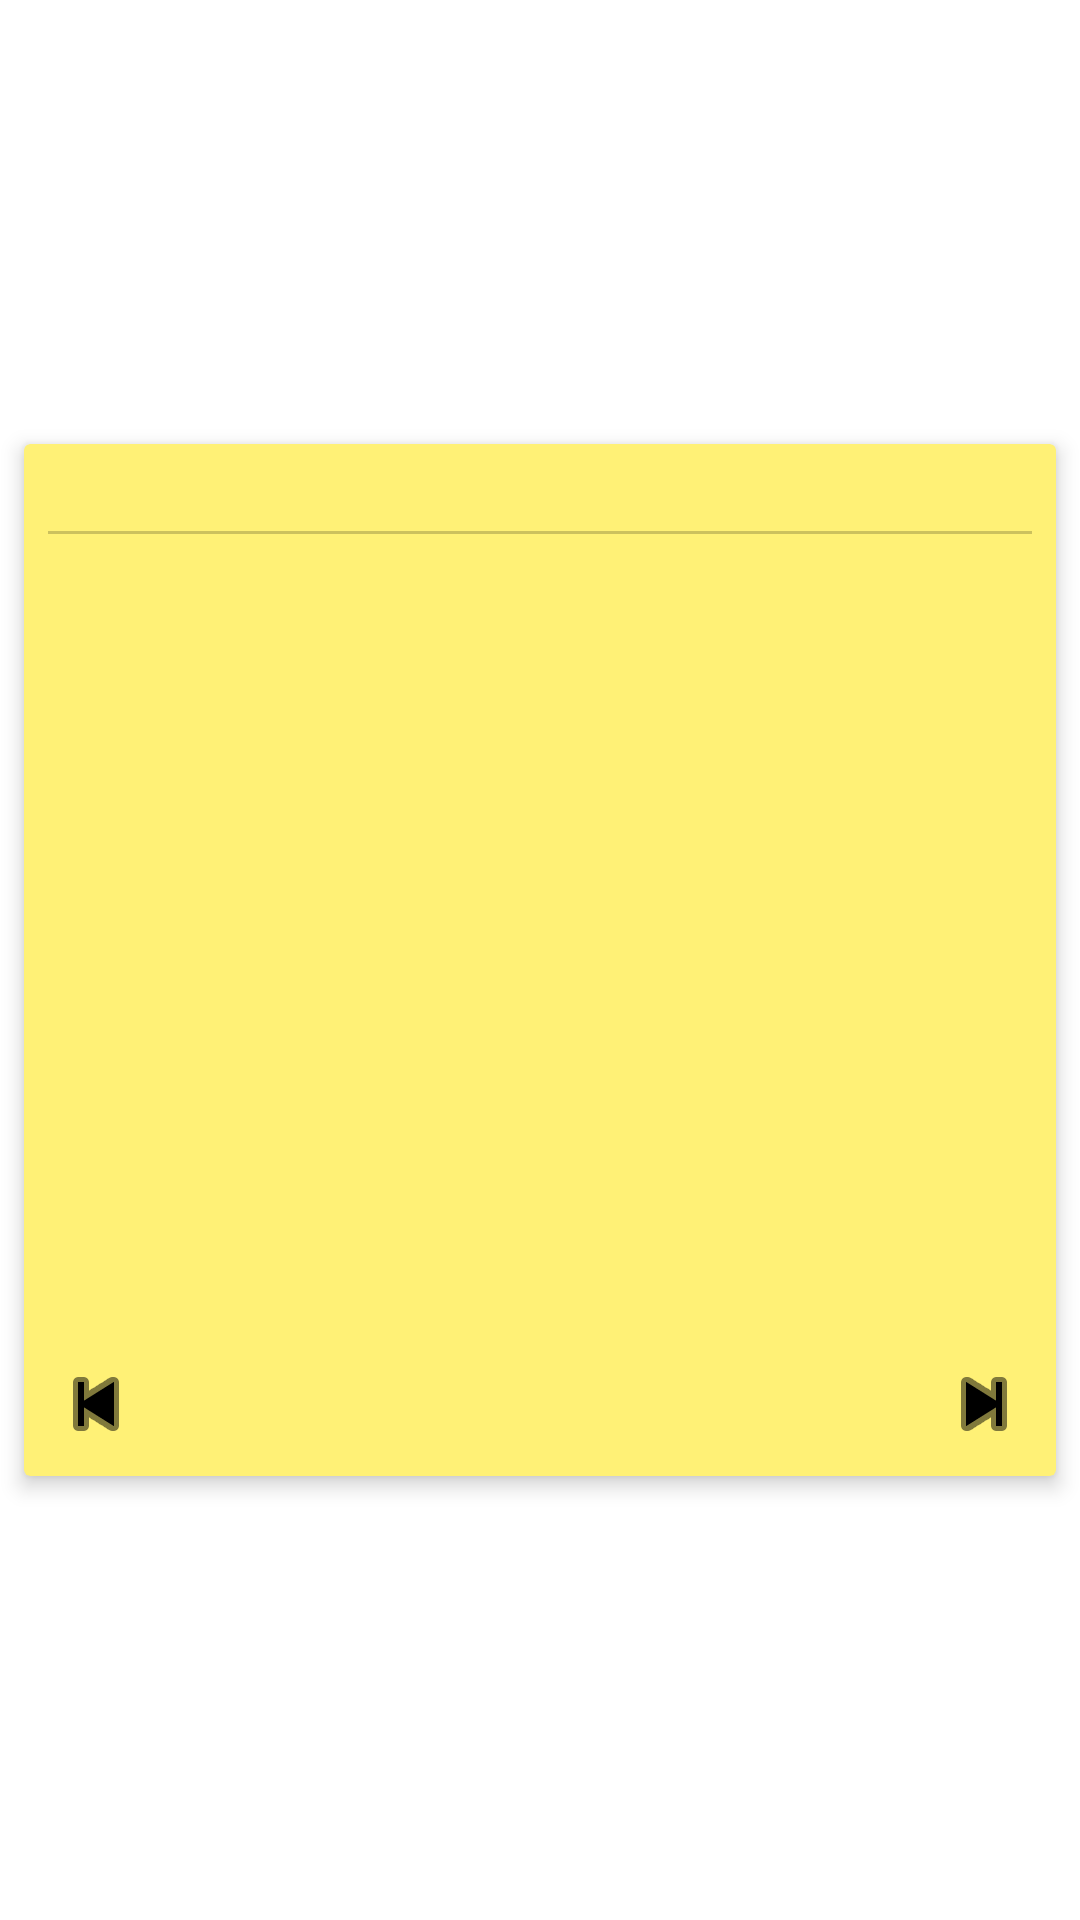

Icon click points for this 1080w x 1920h phone screenshot, format (x=x, y=y):
next: (x=984, y=1404)
previous: (x=96, y=1404)
